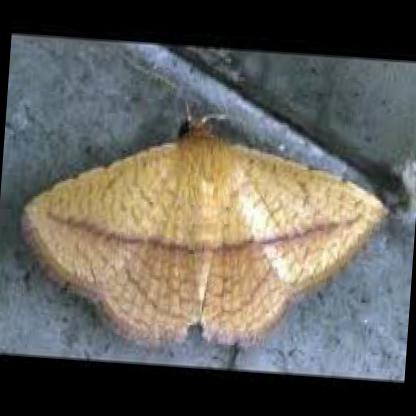Leaf Webber: (12, 50, 395, 362)
